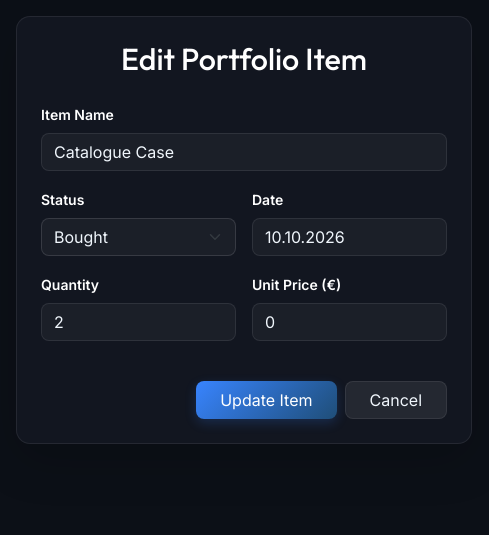
Scenario: a free-text legacy name remains editable and server validation is displayed without losing inputs
Replace the text in the field labelled "Item Name" with "Manual name". click: (244, 152)
box: x1=41 y1=132 x2=447 y2=170
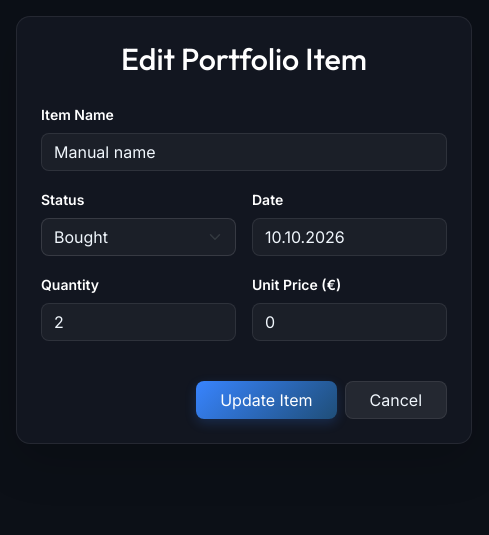
Click the button "Update Item". click: click(266, 400)
box: x1=196 y1=380 x2=336 y2=418
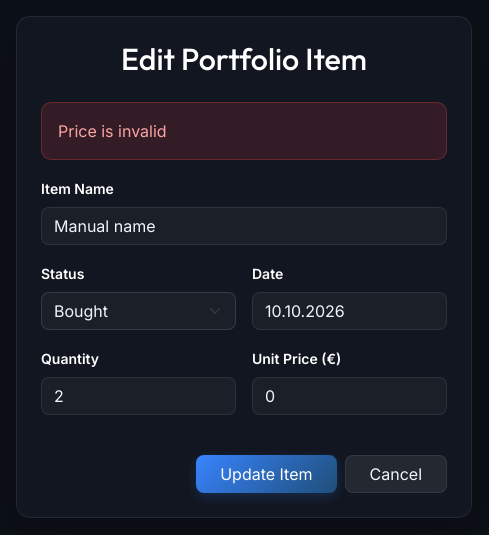
Now the message reads "Price is invalid", box x1=58 y1=120 x2=167 y2=140
